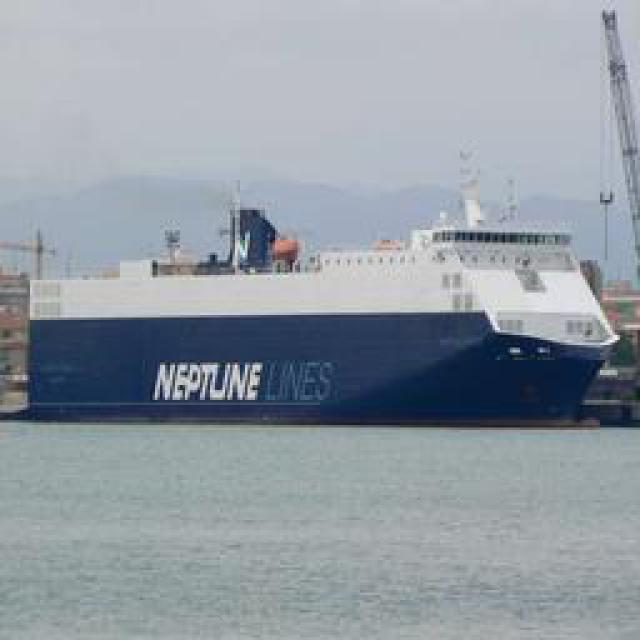Ship: (31, 151, 609, 419)
